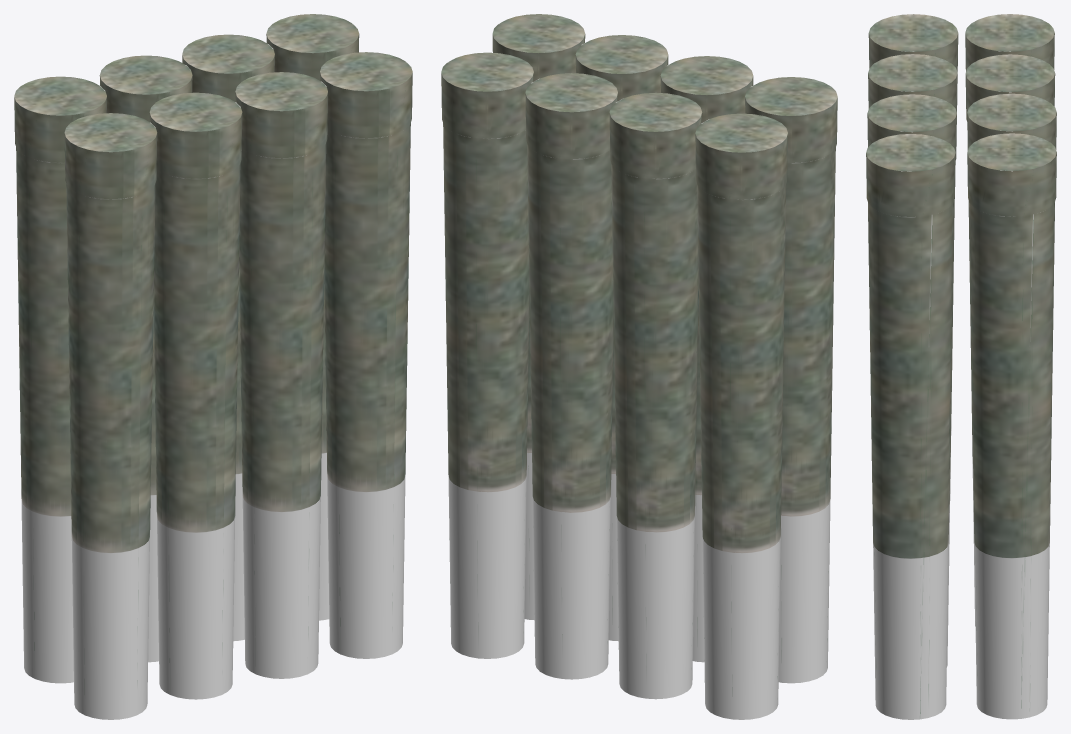
File: roach-storage.glb
3 views of the same model, side by side, from view 1: azimuth 30°, elevation 25°; view 2: azimuth 150°, elevation 25°; view 3: azimuth 270°, elevation 25° (orthographic). The views are drawn at different scales.
Visible parts, largest first — view 1: rouchpack-single-joint.005_rouchpack-single-joint.014, rouchpack-single-joint.006_rouchpack-single-joint.015, rouchpack-single-joint.003_rouchpack-single-joint.012, rouchpack-single-joint.007_rouchpack-single-joint.016, rouchpack-single-joint.001_rouchpack-single-joint.010, rouchpack-single-joint.004_rouchpack-single-joint.013, rouchpack-single-joint.002_rouchpack-single-joint.011, rouchpack-single-joint; view 2: rouchpack-single-joint.001_rouchpack-single-joint.010, rouchpack-single-joint.002_rouchpack-single-joint.011, rouchpack-single-joint, rouchpack-single-joint.004_rouchpack-single-joint.013, rouchpack-single-joint.005_rouchpack-single-joint.014, rouchpack-single-joint.003_rouchpack-single-joint.012, rouchpack-single-joint.007_rouchpack-single-joint.016, rouchpack-single-joint.006_rouchpack-single-joint.015; view 3: rouchpack-single-joint, rouchpack-single-joint.007_rouchpack-single-joint.016, rouchpack-single-joint.006_rouchpack-single-joint.015, rouchpack-single-joint.002_rouchpack-single-joint.011, rouchpack-single-joint.003_rouchpack-single-joint.012, rouchpack-single-joint.005_rouchpack-single-joint.014, rouchpack-single-joint.001_rouchpack-single-joint.010, rouchpack-single-joint.004_rouchpack-single-joint.013.
Part boxes in pixels (left/top/right/bottom): rouchpack-single-joint.005_rouchpack-single-joint.014: left=64, top=113, right=157, bottom=719; rouchpack-single-joint.006_rouchpack-single-joint.015: left=235, top=72, right=327, bottom=678; rouchpack-single-joint.003_rouchpack-single-joint.012: left=149, top=92, right=242, bottom=699; rouchpack-single-joint.007_rouchpack-single-joint.016: left=320, top=52, right=412, bottom=658; rouchpack-single-joint.001_rouchpack-single-joint.010: left=14, top=76, right=106, bottom=683; rouchpack-single-joint.004_rouchpack-single-joint.013: left=182, top=34, right=274, bottom=641; rouchpack-single-joint.002_rouchpack-single-joint.011: left=99, top=55, right=192, bottom=662; rouchpack-single-joint: left=266, top=14, right=359, bottom=620; rouchpack-single-joint.001_rouchpack-single-joint.010: left=695, top=113, right=787, bottom=719; rouchpack-single-joint.002_rouchpack-single-joint.011: left=609, top=92, right=702, bottom=699; rouchpack-single-joint: left=441, top=52, right=533, bottom=658; rouchpack-single-joint.004_rouchpack-single-joint.013: left=525, top=73, right=617, bottom=679; rouchpack-single-joint.005_rouchpack-single-joint.014: left=745, top=77, right=837, bottom=683; rouchpack-single-joint.003_rouchpack-single-joint.012: left=660, top=56, right=753, bottom=662; rouchpack-single-joint.007_rouchpack-single-joint.016: left=492, top=14, right=585, bottom=620; rouchpack-single-joint.006_rouchpack-single-joint.015: left=575, top=35, right=668, bottom=641; rouchpack-single-joint: left=967, top=133, right=1056, bottom=719; rouchpack-single-joint.007_rouchpack-single-joint.016: left=866, top=134, right=955, bottom=719; rouchpack-single-joint.006_rouchpack-single-joint.015: left=867, top=94, right=956, bottom=667; rouchpack-single-joint.002_rouchpack-single-joint.011: left=965, top=54, right=1055, bottom=626; rouchpack-single-joint.003_rouchpack-single-joint.012: left=868, top=54, right=957, bottom=604; rouchpack-single-joint.005_rouchpack-single-joint.014: left=868, top=14, right=958, bottom=584; rouchpack-single-joint.001_rouchpack-single-joint.010: left=965, top=14, right=1054, bottom=71; rouchpack-single-joint.004_rouchpack-single-joint.013: left=967, top=93, right=1056, bottom=149.
Size of the model in its own units: 3.57 by 5.83 by 1.82.
8 materials, 8 textured.
